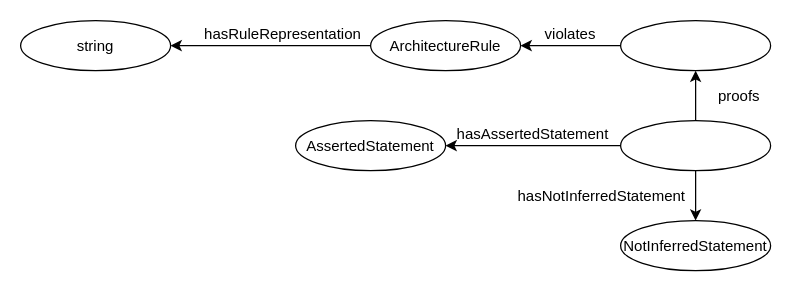
Image size: 791x291. Some labels were removed from this diagram. Here are the shapes that lost their labels. From the top down, the box of each, then its label:
(619, 19, 771, 71): ArchitectureViolation
(619, 119, 771, 171): Proof
